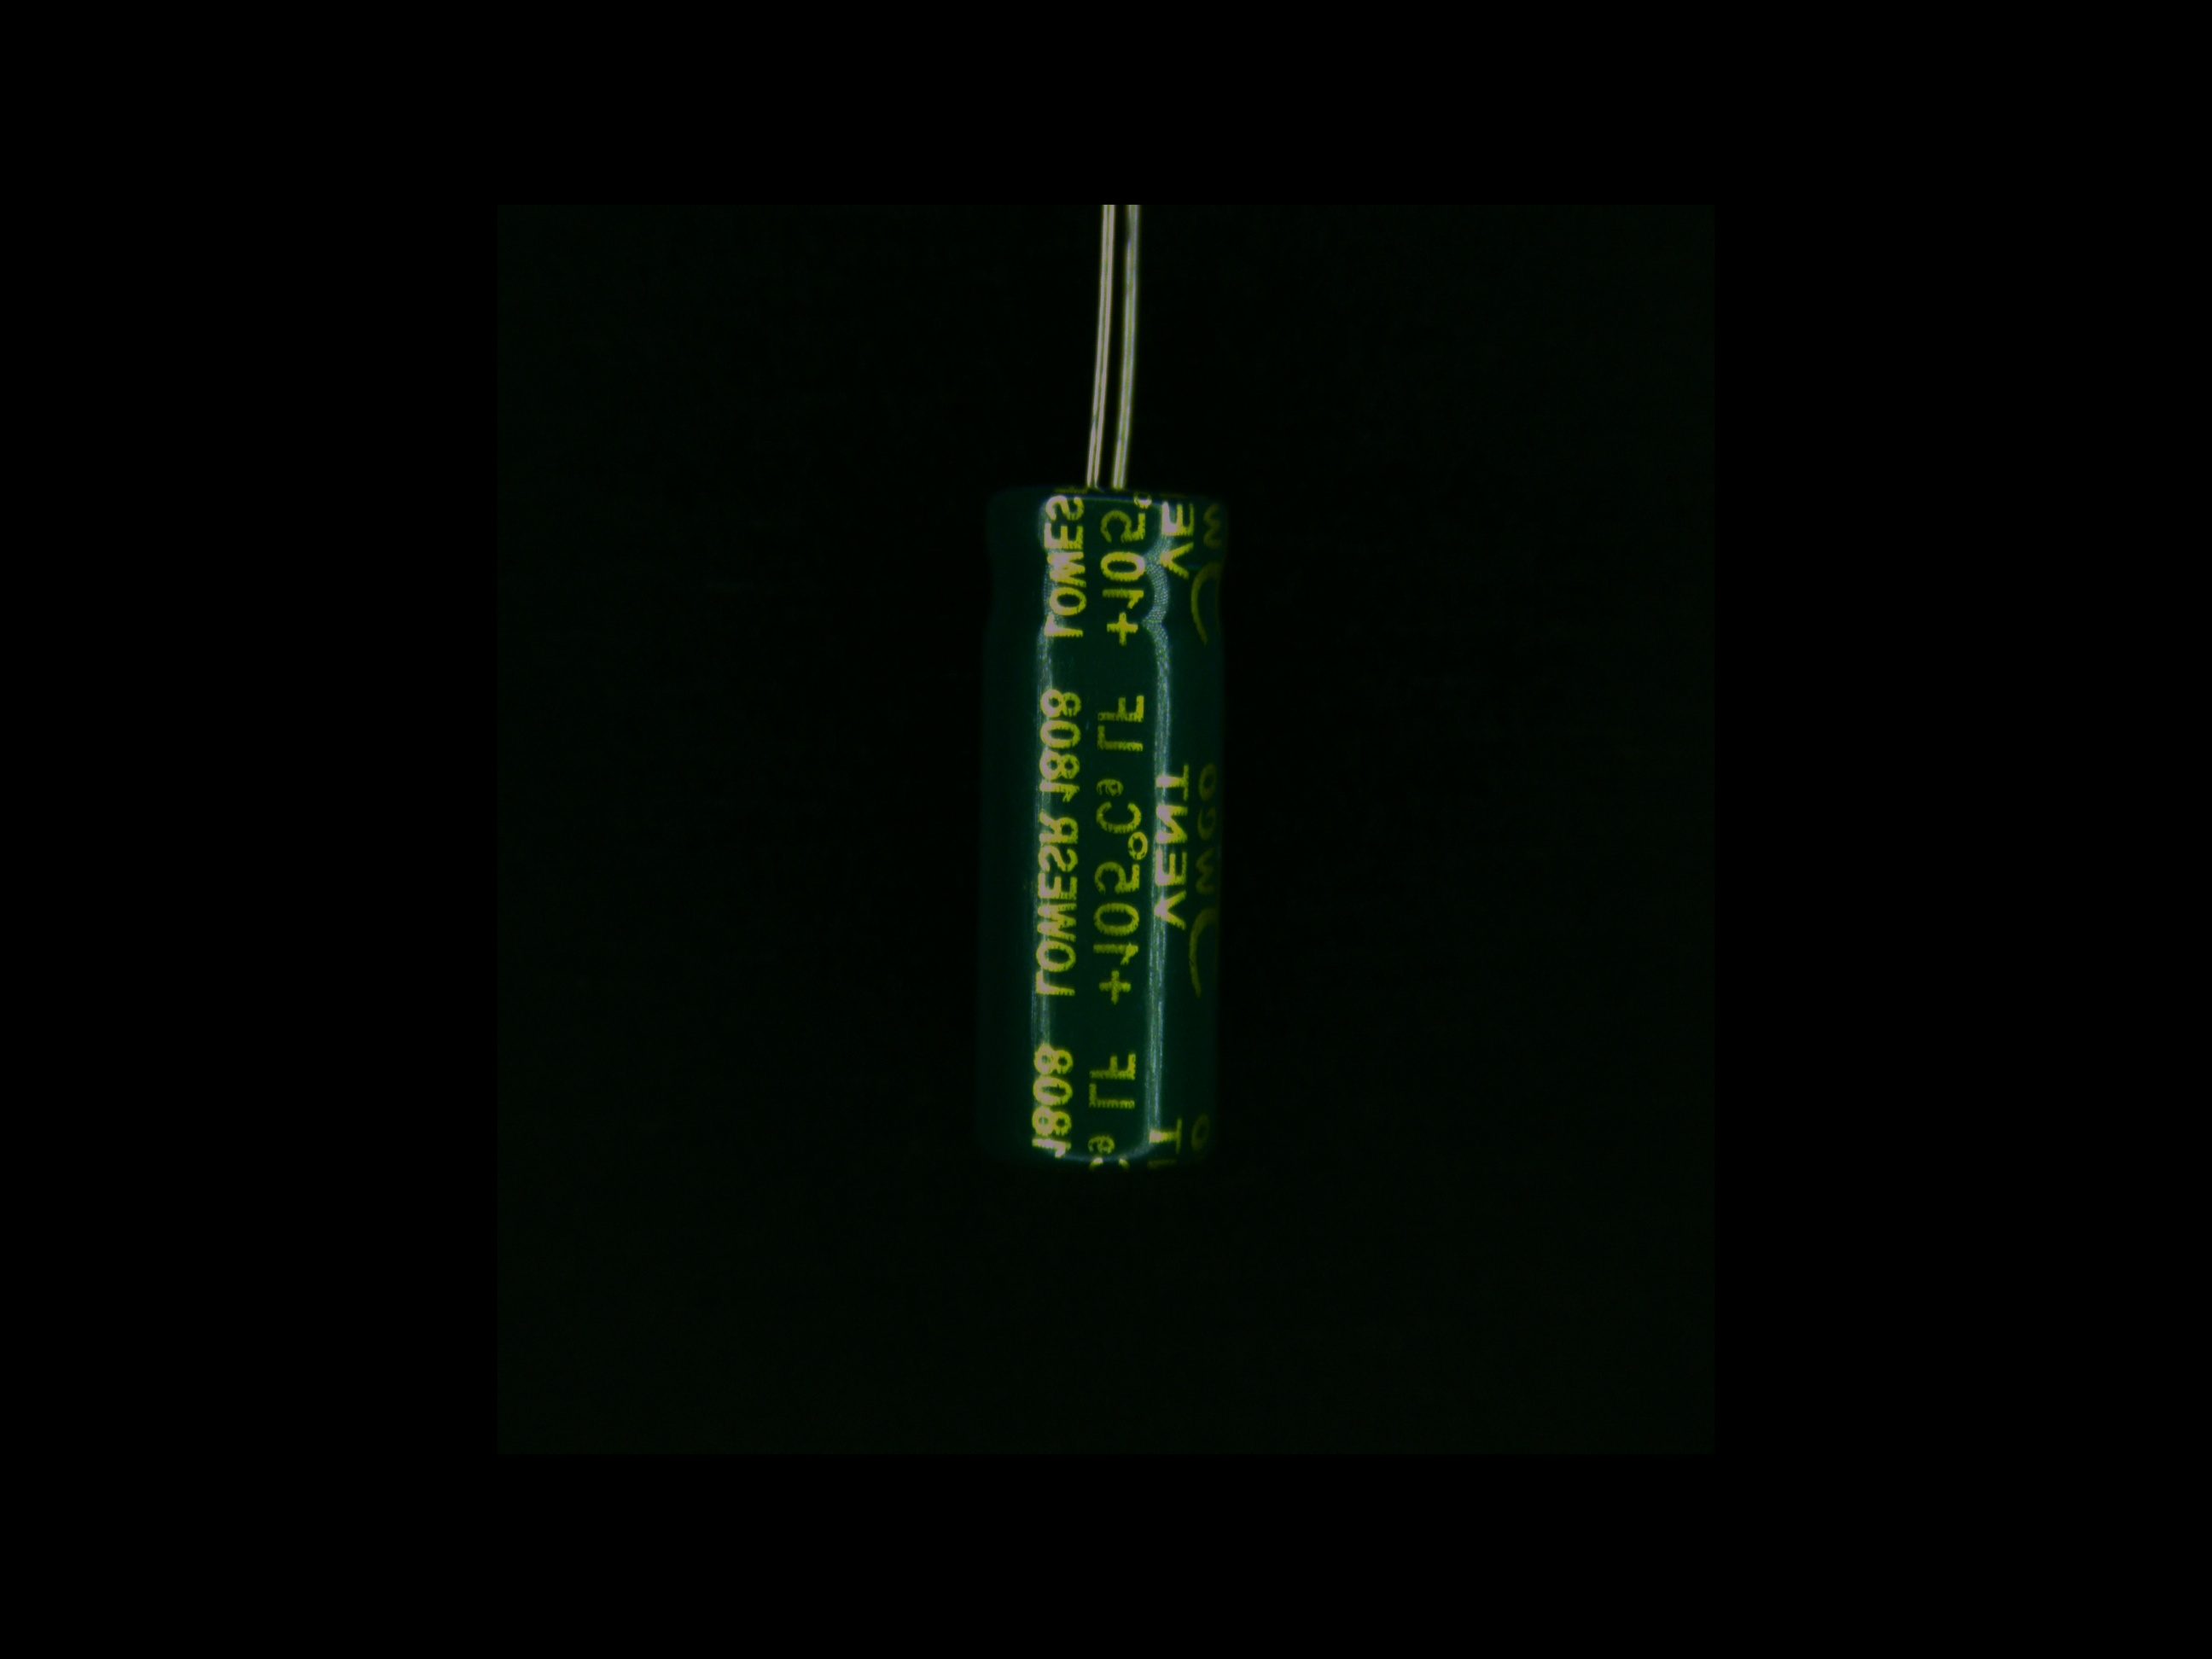c1: (974, 418, 1235, 1166)
